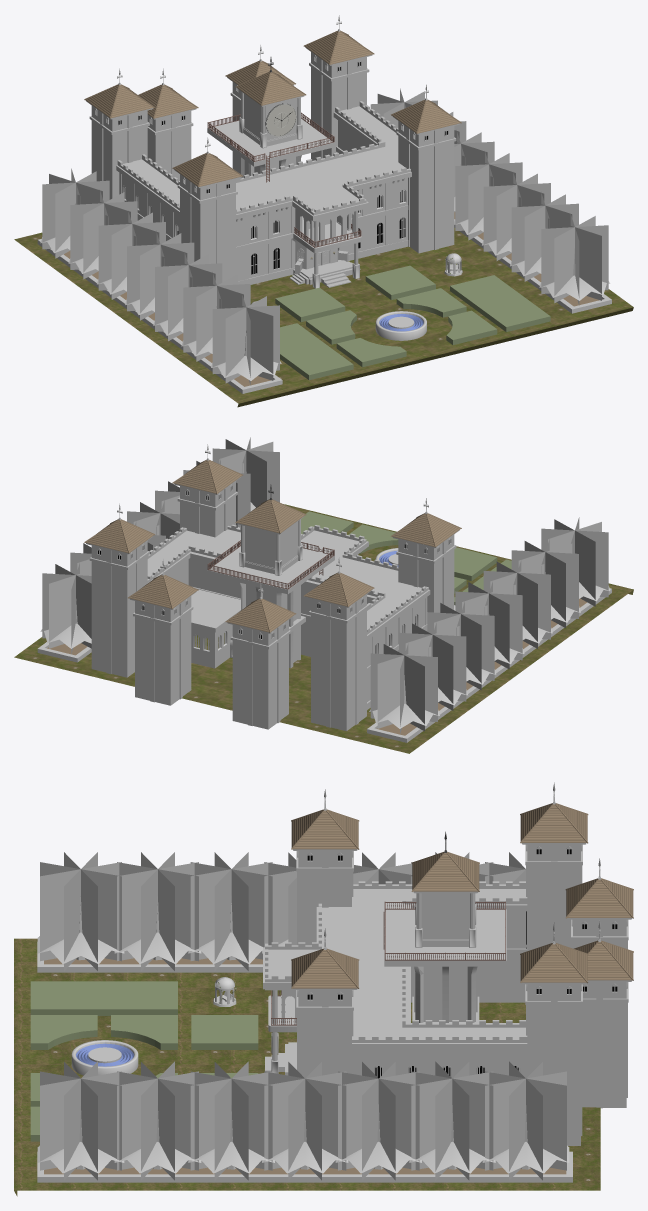
File: koma-out-main.fbx
3 renders of one model, top to bottom at view 1: azimuth 30°, elevation 25°; view 2: azimuth 150°, elevation 25°; view 3: azimuth 270°, elevation 25°, orthographic. The views are drawn at different scales.
Visible parts, largest first — view 1: koma-main; view 2: koma-main; view 3: koma-main.
Boxes of the visible parts, x1,y1,x2,y2 form: koma-main: [14, 15, 633, 407]; koma-main: [14, 437, 633, 753]; koma-main: [14, 782, 633, 1196].
Bounding box in the file's own units: 5566 × 2472 × 5788.
